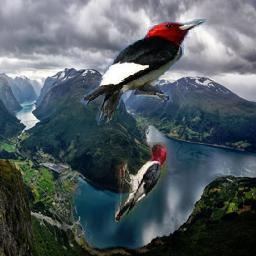Woodpecker: (79, 19, 208, 125), (116, 142, 169, 222)
